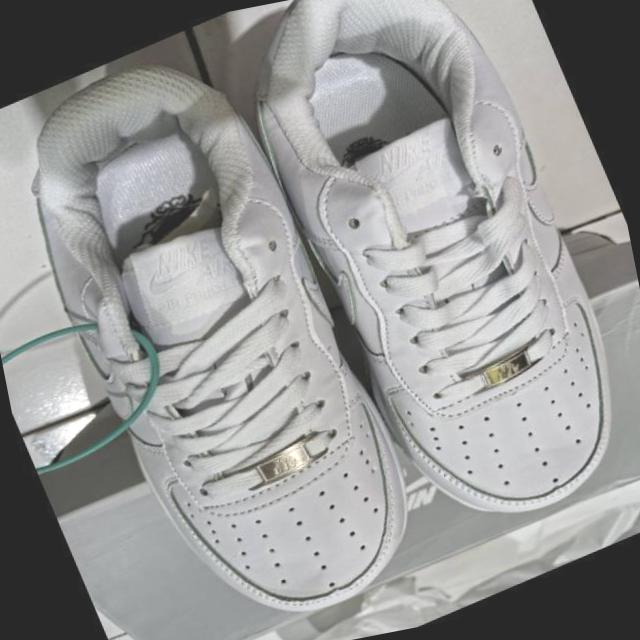nike_fake_airforce: (0, 6, 455, 640), (207, 0, 640, 580)
